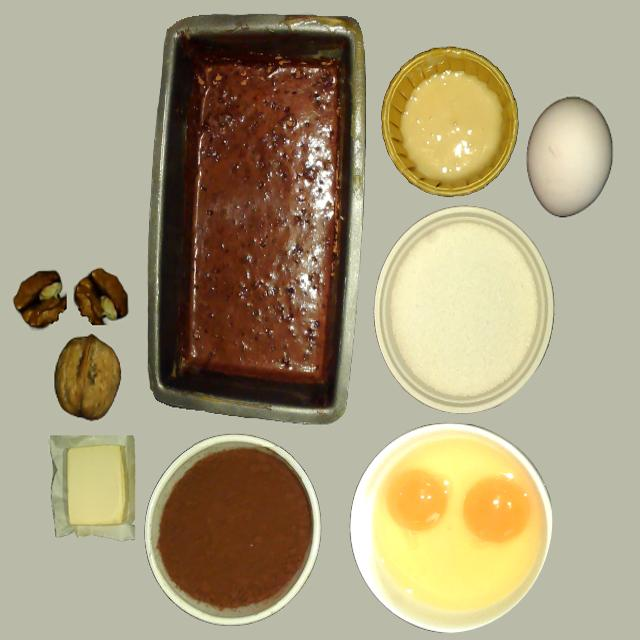Cocoa: (158, 447, 311, 612)
Egg: (462, 476, 530, 543), (386, 470, 449, 532)
Sugar: (388, 219, 538, 403)
Walnut: (54, 334, 120, 420)
